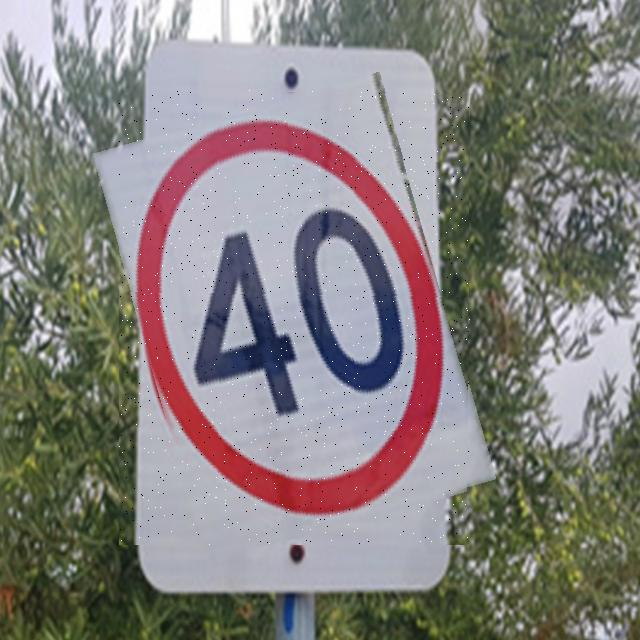speed limit 40: (119, 89, 470, 545)
